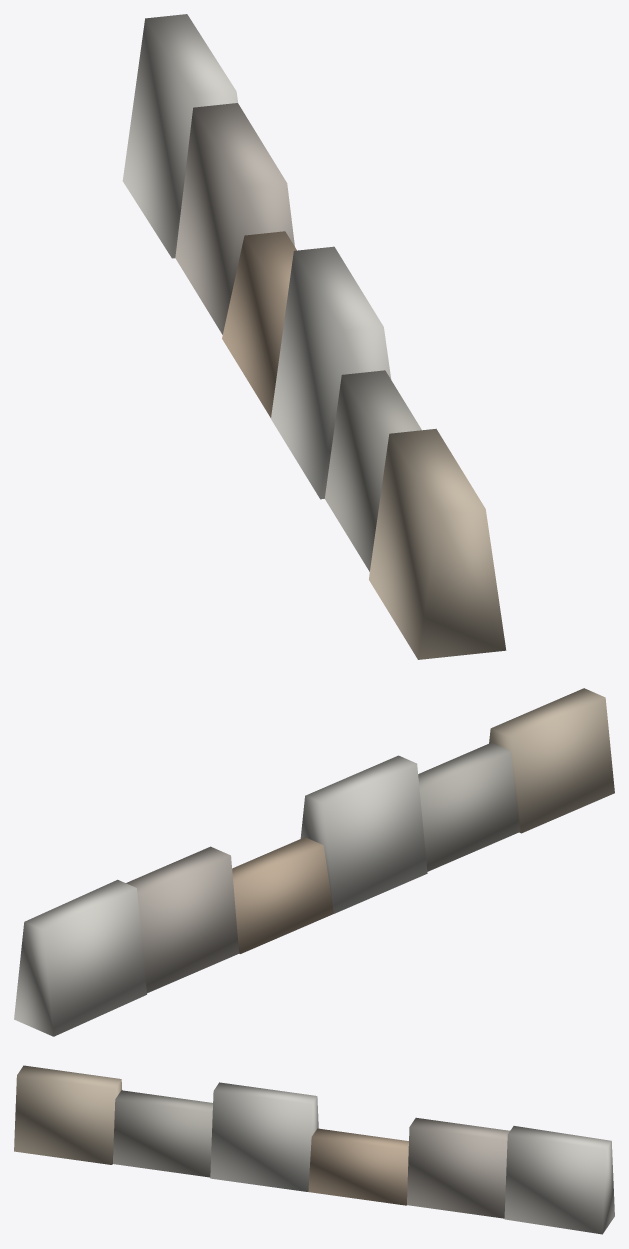
Rendered from farm_-32_-30_collision.glb.
3 views of the same model, one above another, from view 1: azimuth 30°, elevation 25°; view 2: azimuth 150°, elevation 25°; view 3: azimuth 270°, elevation 25° (orthographic). The views are drawn at different scales.
Visible parts, largest first — view 1: geometry_0; view 2: geometry_0; view 3: geometry_0.
Boxes of the visible parts, x1=… form: geometry_0: x1=122, y1=14, x2=506, y2=659; geometry_0: x1=14, y1=688, x2=614, y2=1036; geometry_0: x1=14, y1=1065, x2=614, y2=1234.
Bounding box in the file's own units: 3.33 × 1.58 × 9.42.
